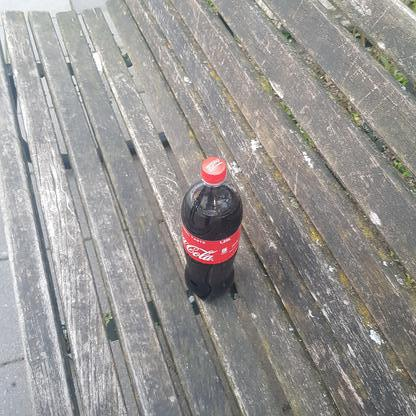coca-cola: (179, 156, 245, 303)
